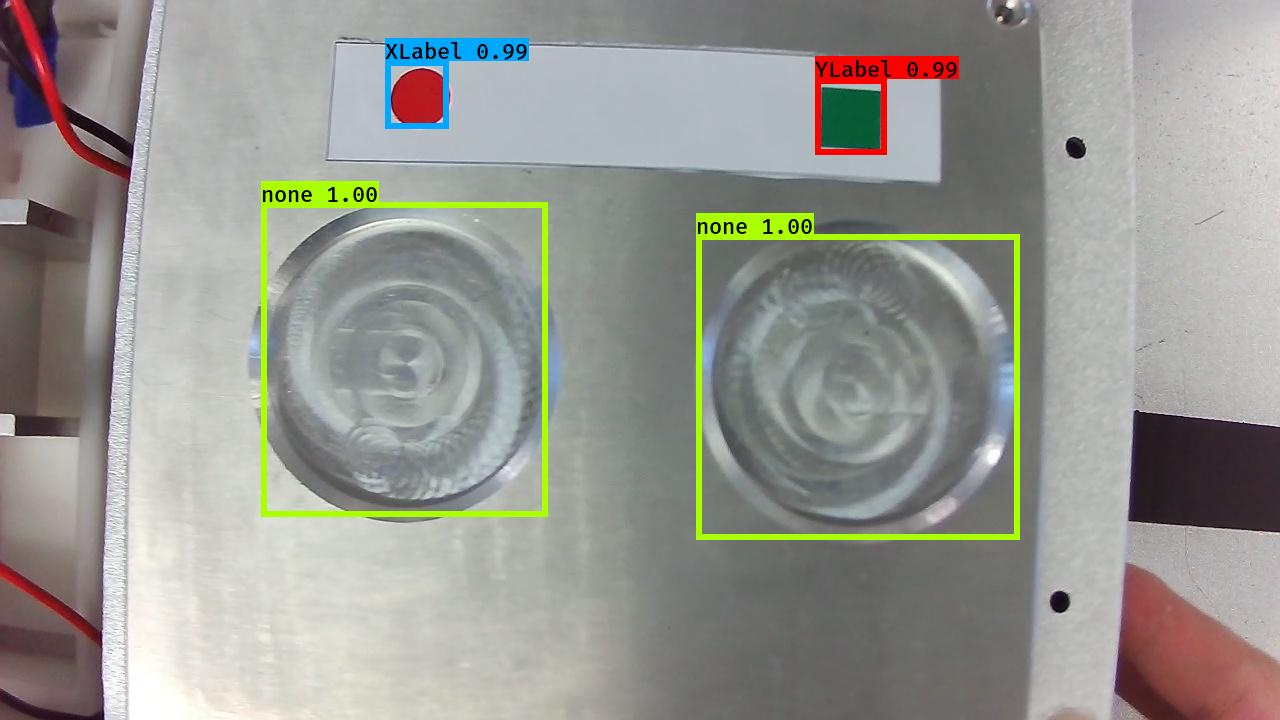XLabel: (386, 64, 452, 130)
YLabel: (814, 82, 887, 155)
none: (688, 218, 1026, 554), (240, 200, 569, 533)
